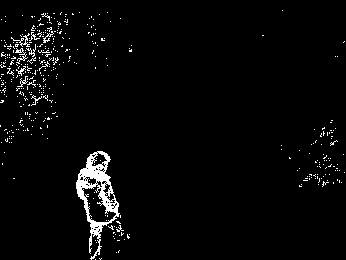person: (72, 149, 132, 260)
